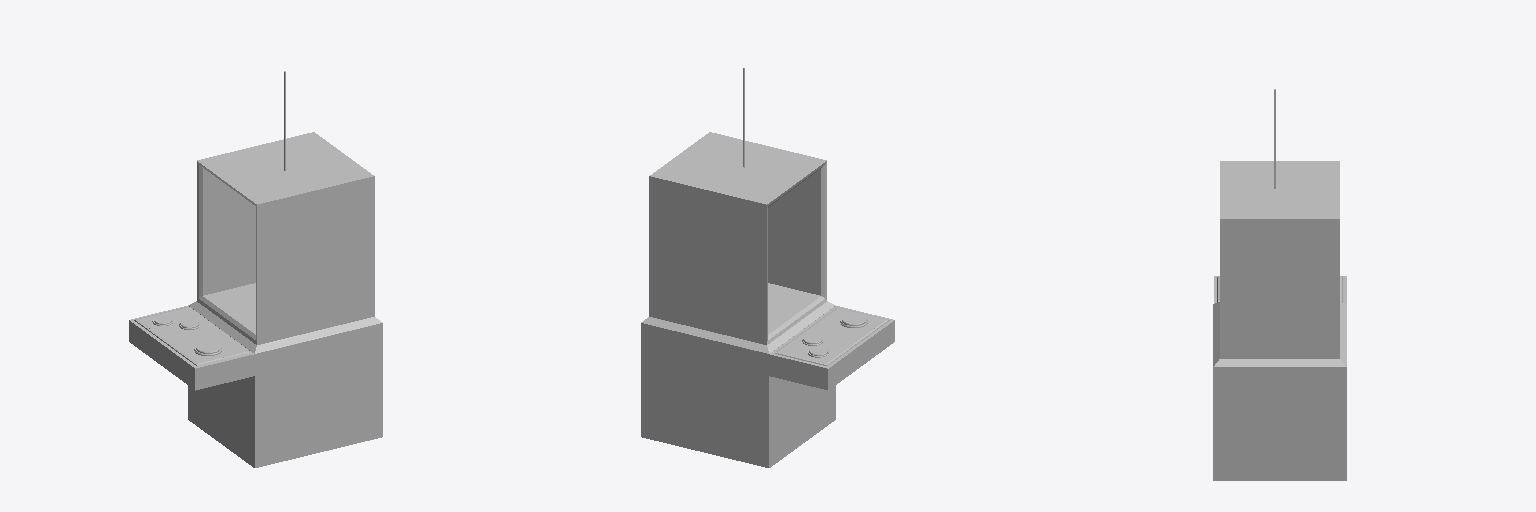
Rendered from claw machine.obj.
3 views of the same model, side by side, from view 1: azimuth 30°, elevation 25°; view 2: azimuth 150°, elevation 25°; view 3: azimuth 270°, elevation 25° (orthographic).
Visible parts, largest first — view 1: machine, help_base; view 2: machine, help_base; view 3: machine.
Part boxes in pixels (x1,y1,x2,y2): machine: (188, 132, 382, 467); help_base: (129, 306, 254, 390); machine: (641, 132, 835, 467); help_base: (769, 306, 894, 390); machine: (1213, 161, 1346, 480).
Size of the model in its own units: 1.79 by 3.28 by 1.1.